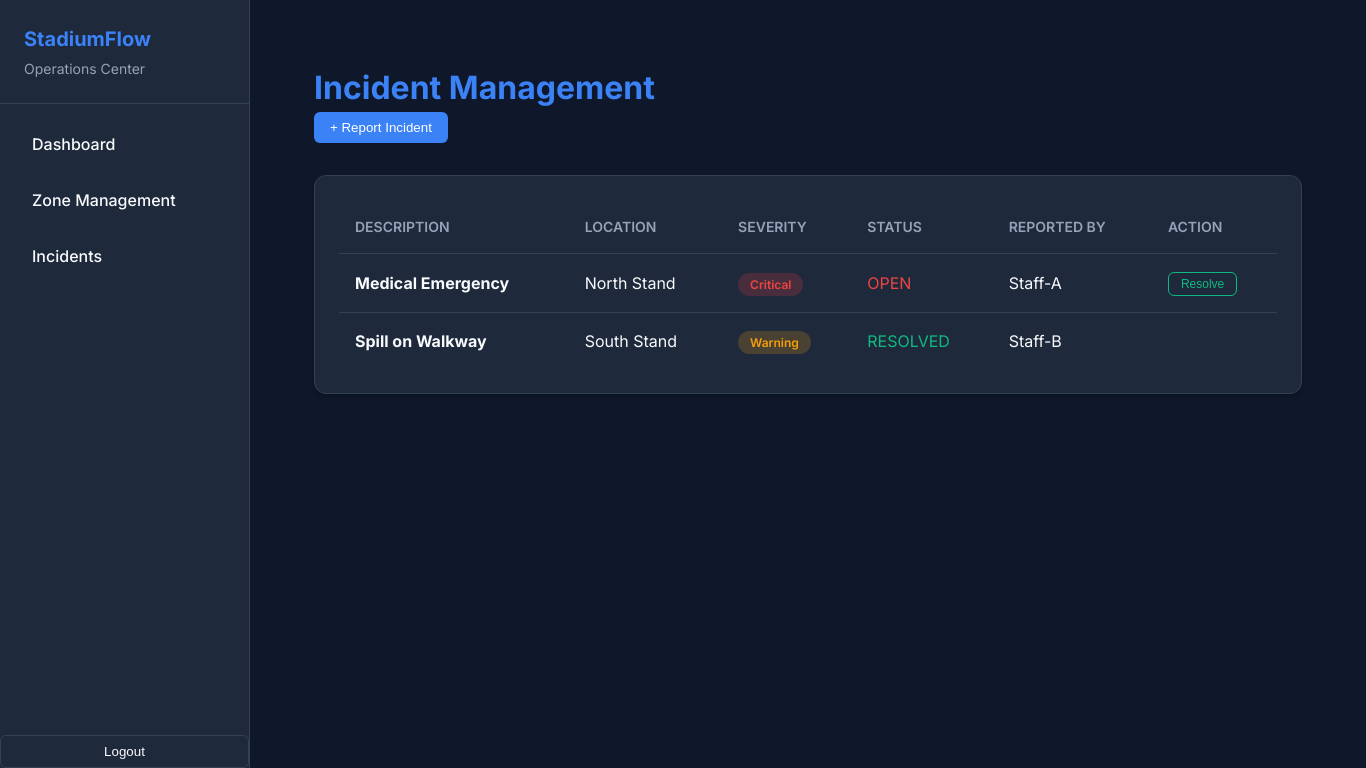
Test: Report Incident Workflow › submits a new incident and reloads the list
Click the button with aria-label "Report a new incident". click: [381, 128]
box: 314,112 -> 448,143
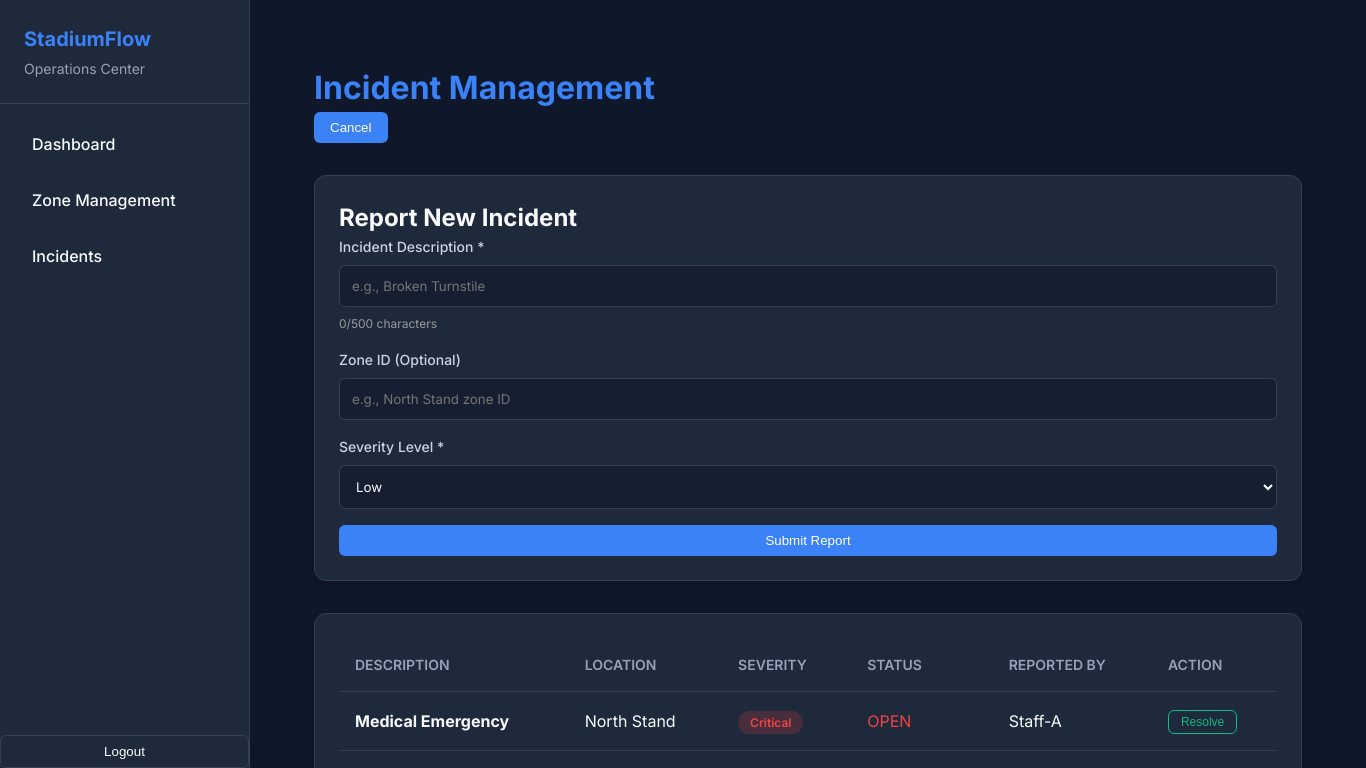
Type "Broken Gate" into the field with id "description". click: [808, 286]
box: 339,265 -> 1277,307
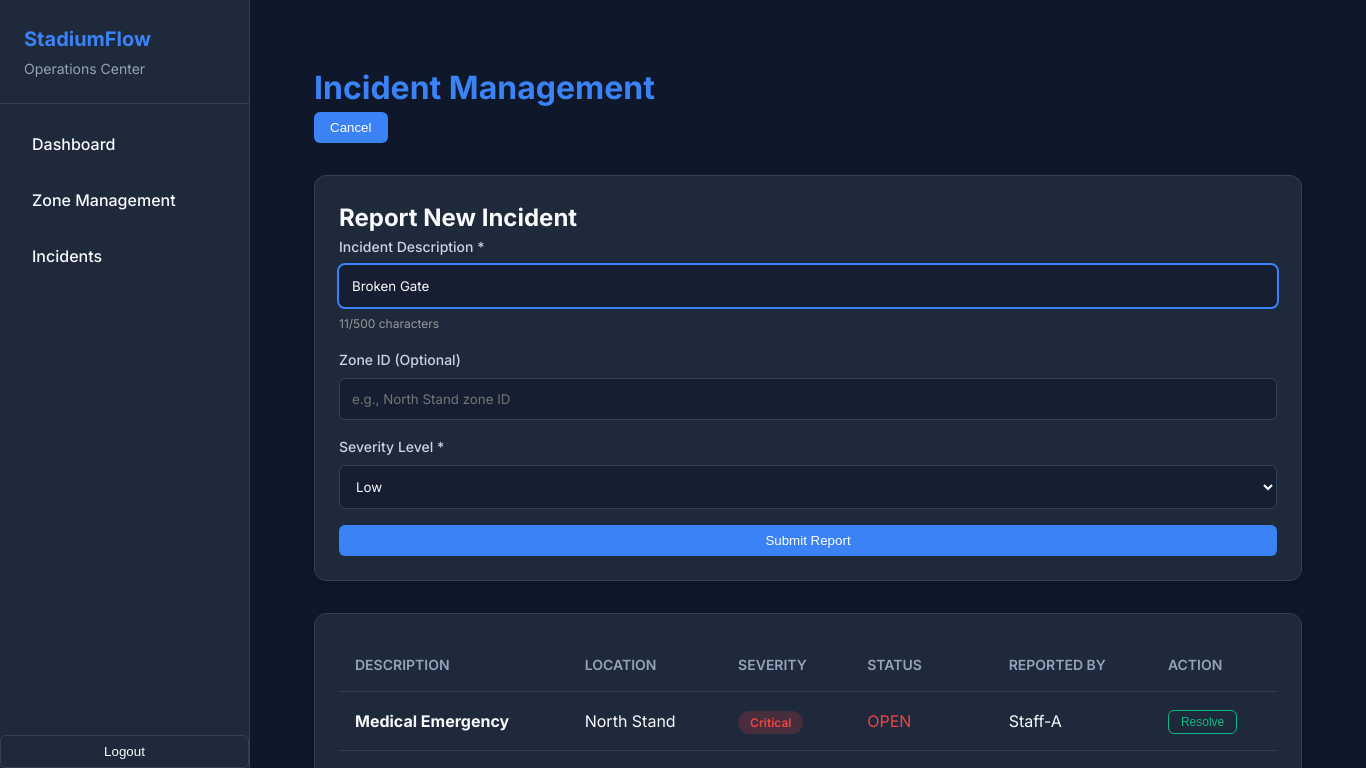
Select "Low" in the dropdown with id "severity". click: [808, 487]
box: 339,465 -> 1277,509
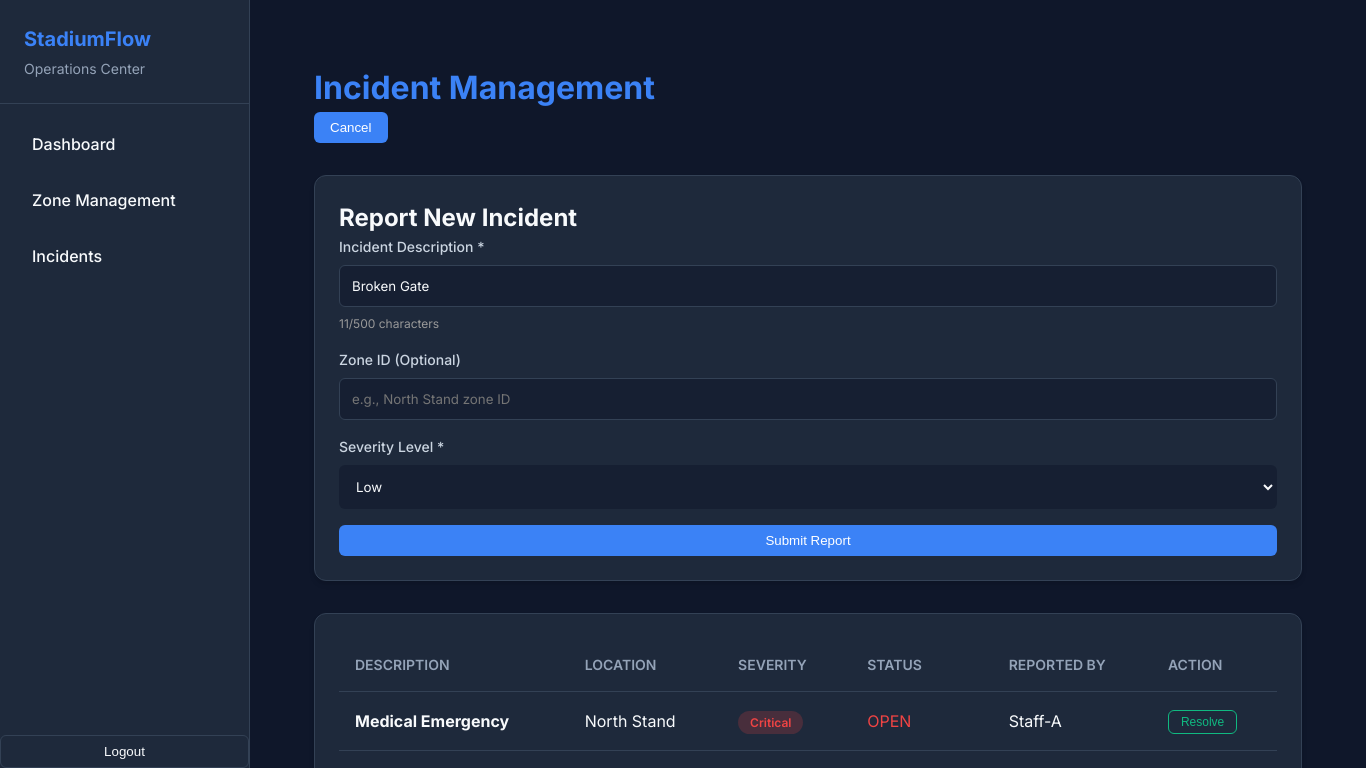
Click the button with aria-label "Submit the incident report". click: [808, 541]
box: 339,525 -> 1277,556
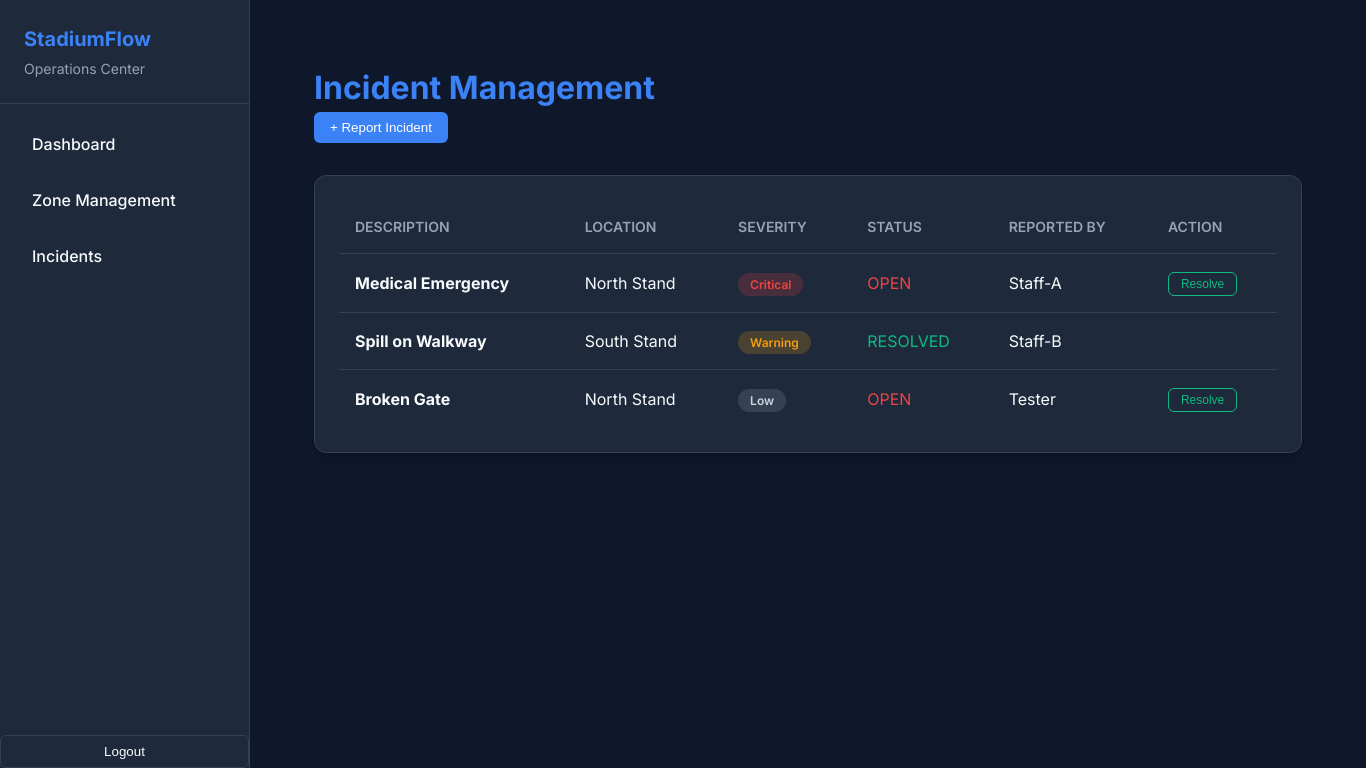
Now the text "Broken Gate" is shown, box 355,389 -> 450,409
